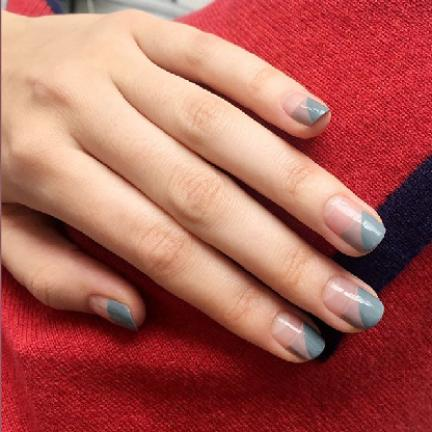Nail: (324, 195, 386, 256), (323, 276, 384, 330), (272, 311, 326, 361), (89, 296, 138, 331), (283, 92, 330, 128)
